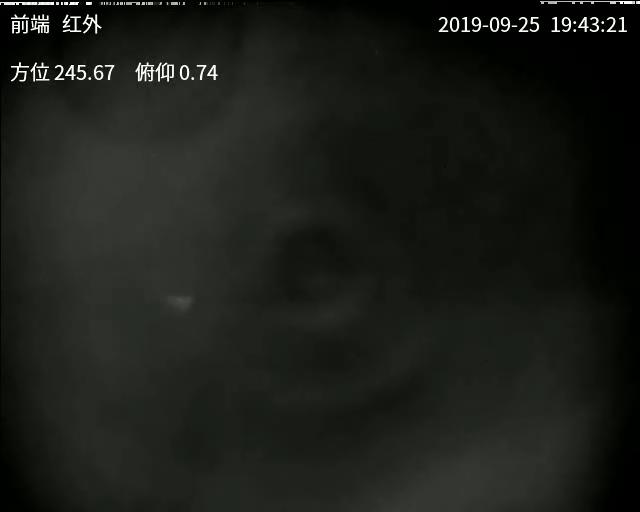uav: (160, 288, 198, 312)
